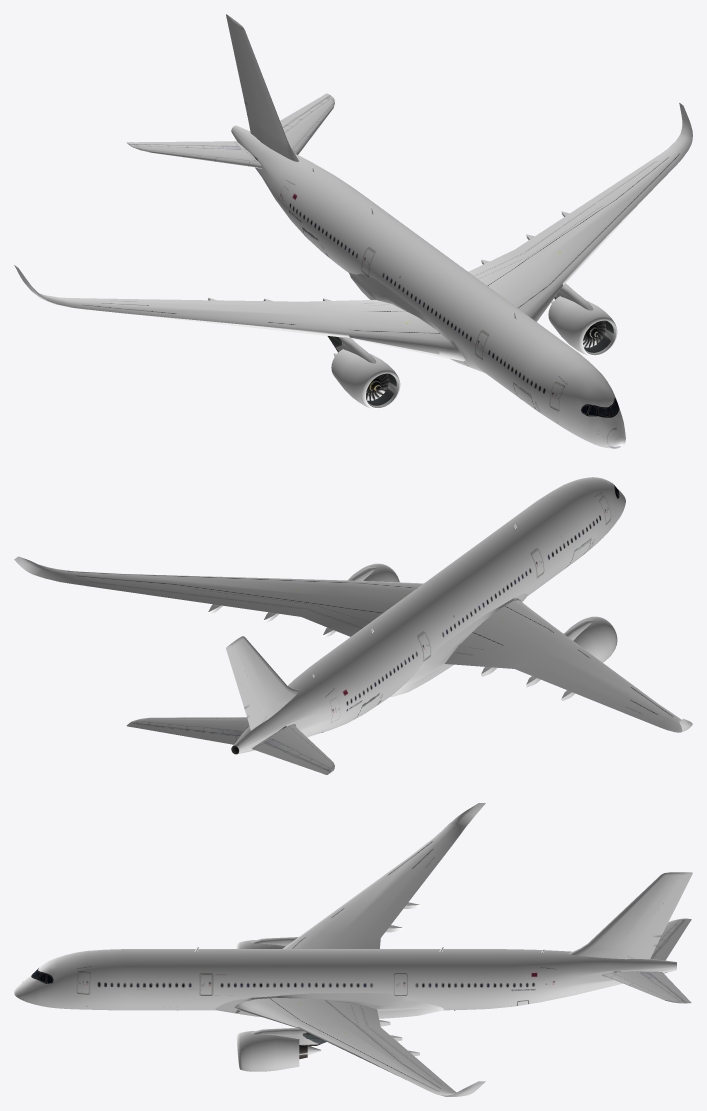
Rendered from airbus_a350.obj.
3 views of the same model, one above another, from view 1: azimuth 30°, elevation 25°; view 2: azimuth 150°, elevation 25°; view 3: azimuth 270°, elevation 25° (orthographic). The views are drawn at different scales.
Visible parts, largest first — view 1: obj2, obj1; view 2: obj2, obj1; view 3: obj2, obj1.
Part boxes in pixels (<box>): obj2: <box>14,23,656,448</box>; obj1: <box>21,14,692,407</box>; obj2: <box>208,477,692,774</box>; obj1: <box>14,556,682,774</box>; obj2: <box>14,872,692,1096</box>; obj1: <box>234,803,691,1095</box>.
Size of the model in its own units: 2606 by 664 by 2687.
Materials: 1 (1 with a texture image).
